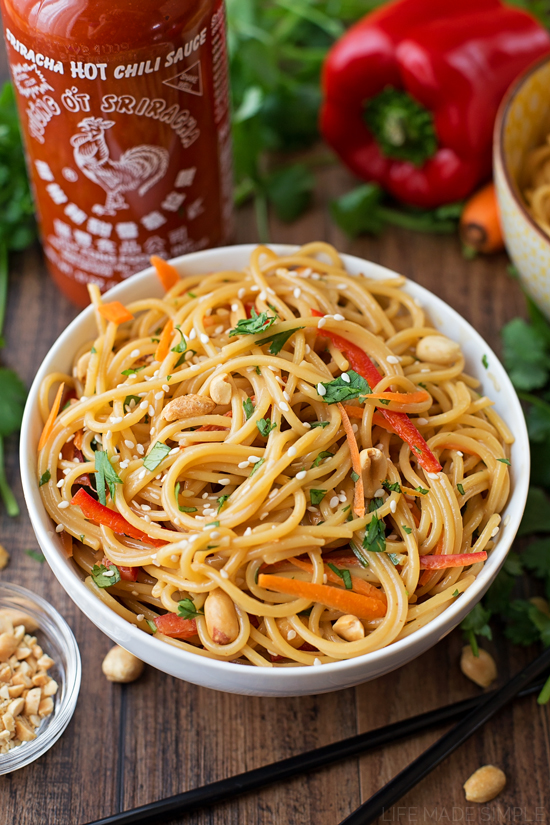plain spaghetti: (101, 303, 458, 609)
